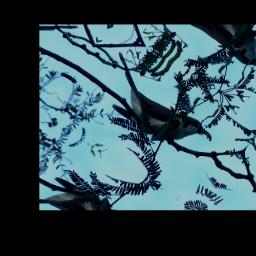Cuckoo: (78, 48, 229, 165)
